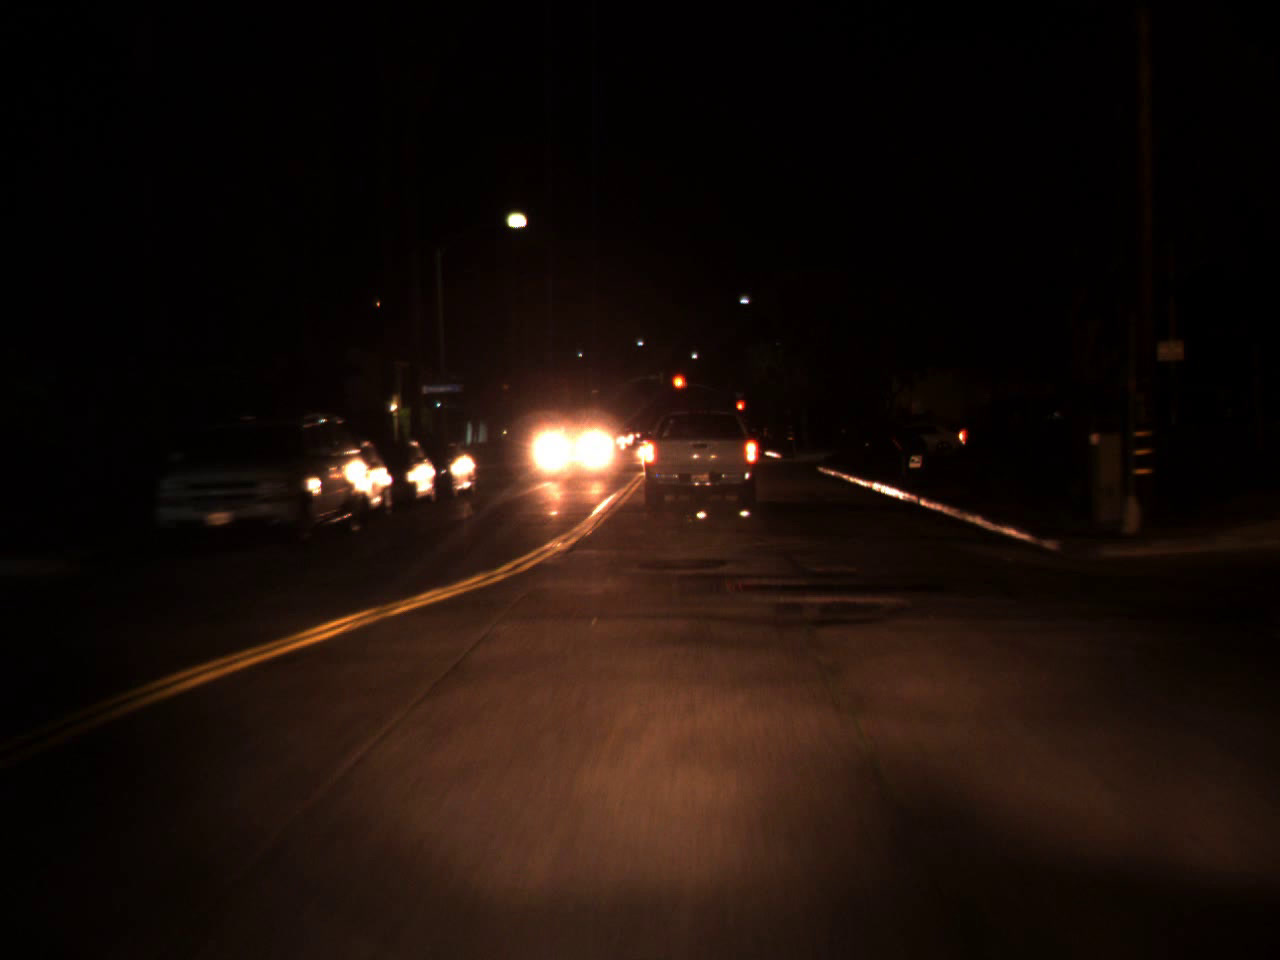stop: (670, 373, 688, 405), (735, 400, 745, 421)
